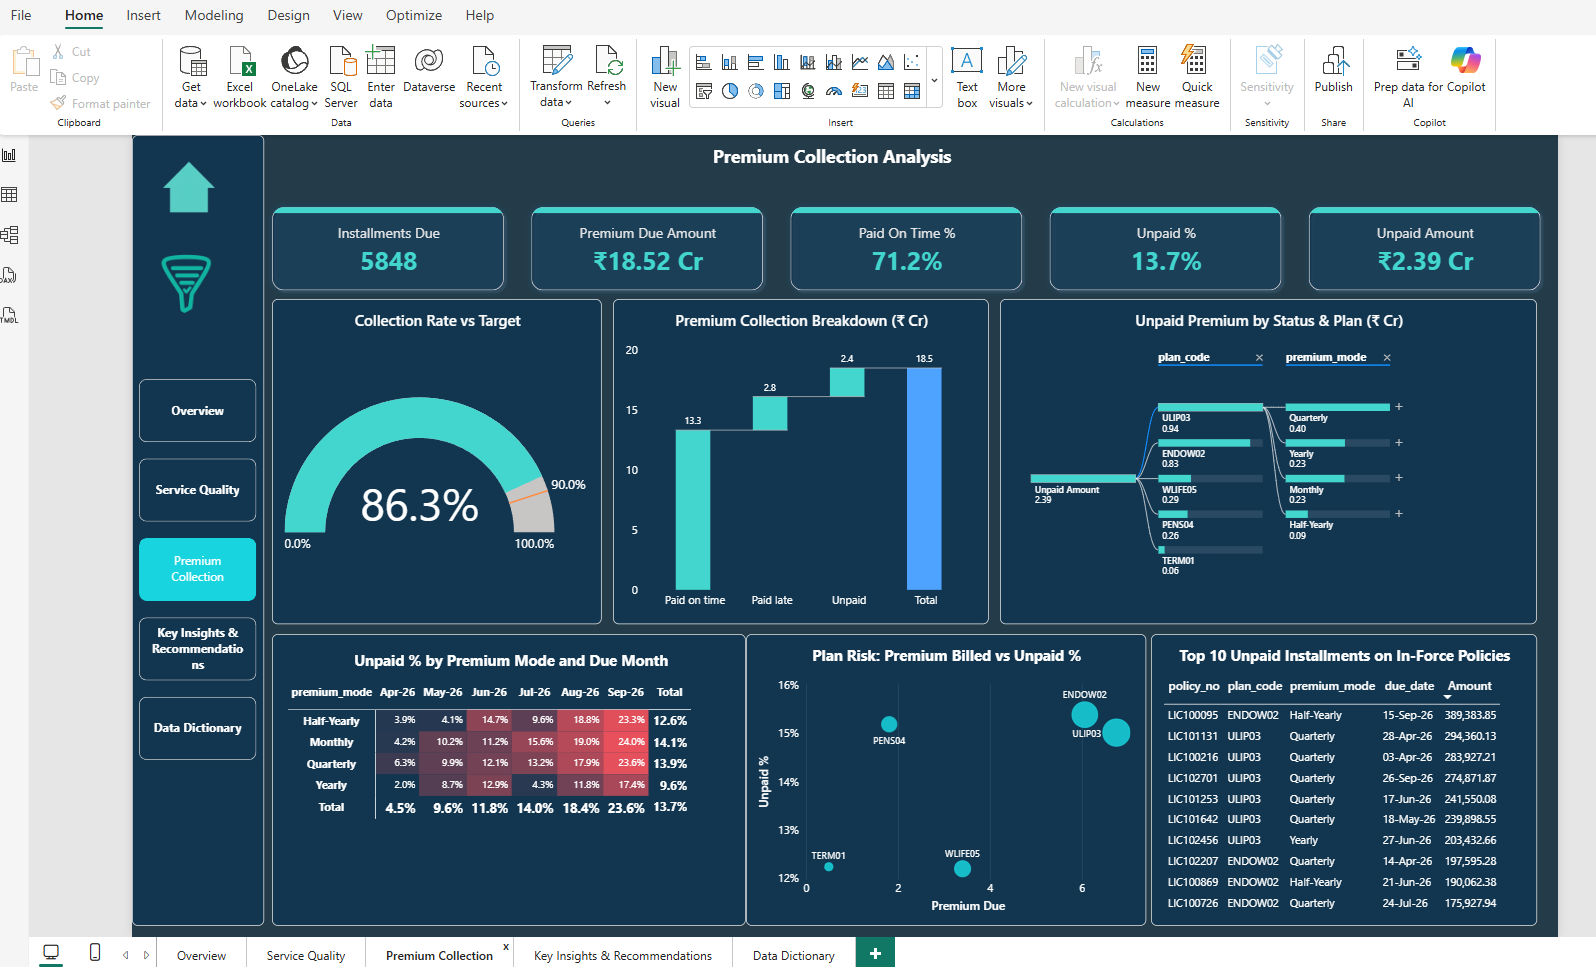

The dashboard page shown, as its layout file describes it:
{"tool":"powerbi","page":{"name":"Premium Collection","canvas":[1920,1080],"ordinal":2},"visuals":[{"type":"cardVisual","title":"Cards_page3","fields":{"Data":["measure_table.Installments Due","measure_table.Premium Due Amount","measure_table.Paid On Time %","measure_table.Unpaid %","measure_table.Unpaid Amount Label"]},"box":[177.8,86.2,1733.1,134.7],"z":0},{"type":"gauge","title":"Collection Rate vs Target","fields":{"TargetValue":["measure_table.Collection Target"],"Y":["measure_table.Collection Rate"]},"box":[188.5,220.8,444.4,437.7],"z":1000},{"type":"waterfallChart","title":"Premium Collection Breakdown (₹ Cr)","fields":{"Category":["v_premium_detail.Status Label"],"Y":["measure_table.Premium Due"]},"box":[647.7,220.8,506.3,437.7],"z":2000},{"type":"decompositionTreeVisual","title":"Unpaid Premium by Status & Plan (₹ Cr)","fields":{"Analyze":["measure_table.Unpaid Amount"],"ExplainBy":["v_premium_detail.plan_code","v_premium_detail.premium_mode","v_premium_detail.policy_status"]},"box":[1168.9,220.8,723.1,437.7],"z":3000},{"type":"pivotTable","title":"Unpaid % by Premium Mode and Due Month","fields":{"Columns":["v_premium_detail.due_month"],"Rows":["v_premium_detail.premium_mode"],"Values":["measure_table.Unpaid %"]},"box":[188.5,672,638.3,393.2],"z":4000},{"type":"scatterChart","title":"Plan Risk: Premium Billed vs Unpaid %","fields":{"Category":["v_premium_detail.plan_code"],"Size":["measure_table.Unpaid Amount"],"X":["measure_table.Premium Due"],"Y":["measure_table.Unpaid %"]},"box":[826.8,672,538.7,393.2],"z":5000},{"type":"tableEx","title":"Top 10 Unpaid Installments on In-Force Policies","fields":{"Values":["v_premium_detail.policy_no","v_premium_detail.plan_code","v_premium_detail.premium_mode","v_premium_detail.due_date","Sum(v_premium_detail.amount)"]},"box":[1372.2,672,519.8,393.2],"z":6000},{"type":"shape","title":"sidebar_page3","box":[0,0,177.8,1065.2],"z":7000},{"type":"image","title":"Home_image_base","box":[20.2,0,113.1,140],"z":8000},{"type":"image","title":"filter_keep_image","box":[12.1,140,121.2,119.9],"z":9000},{"type":"pageNavigator","box":[9.4,328.6,158.9,515.8],"z":10001},{"type":"textbox","box":[580.4,12.1,724.5,57.9],"z":10002}]}

Visuals, with their boxes on the page's 1920x1080 design canvas (x1, y1, x2, y2). These are canvas units, not pixel positions in the 1596x967 screenshot, which may show the page scaled, cropped or inside an application window:
"Cards_page3" cardVisual: (178,86,1911,221)
"Collection Rate vs Target" gauge: (188,221,633,658)
"Premium Collection Breakdown (₹ Cr)" waterfallChart: (648,221,1154,658)
"Unpaid Premium by Status & Plan (₹ Cr)" decompositionTreeVisual: (1169,221,1892,658)
"Unpaid % by Premium Mode and Due Month" pivotTable: (188,672,827,1065)
"Plan Risk: Premium Billed vs Unpaid %" scatterChart: (827,672,1366,1065)
"Top 10 Unpaid Installments on In-Force Policies" tableEx: (1372,672,1892,1065)
"sidebar_page3" shape: (0,0,178,1065)
"Home_image_base" image: (20,0,133,140)
"filter_keep_image" image: (12,140,133,260)
pageNavigator: (9,329,168,844)
textbox: (580,12,1305,70)
